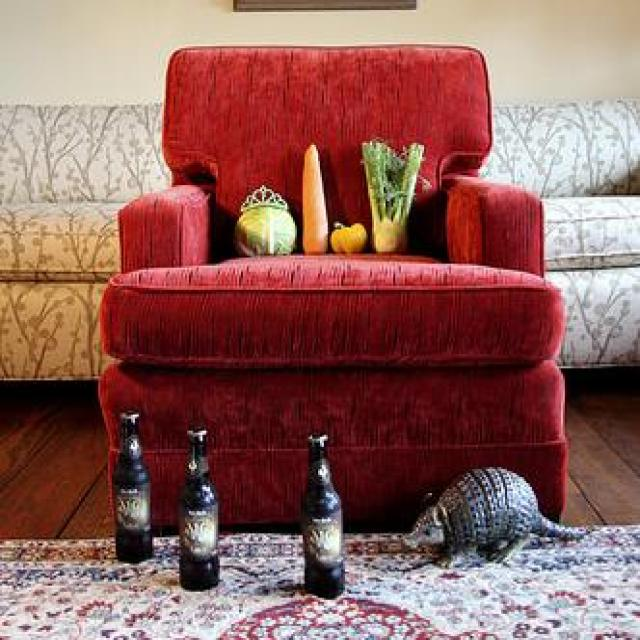sofa: (96, 42, 569, 534)
